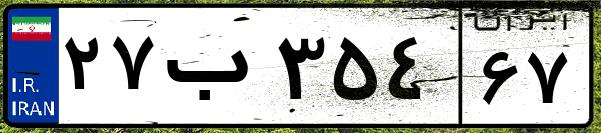2: (57, 26, 110, 100)
3: (270, 28, 330, 110)
4: (385, 28, 445, 110)
5: (330, 28, 385, 110)
6: (475, 38, 525, 113)
7: (525, 38, 570, 115), (110, 28, 158, 98)
ب: (158, 20, 270, 120)
